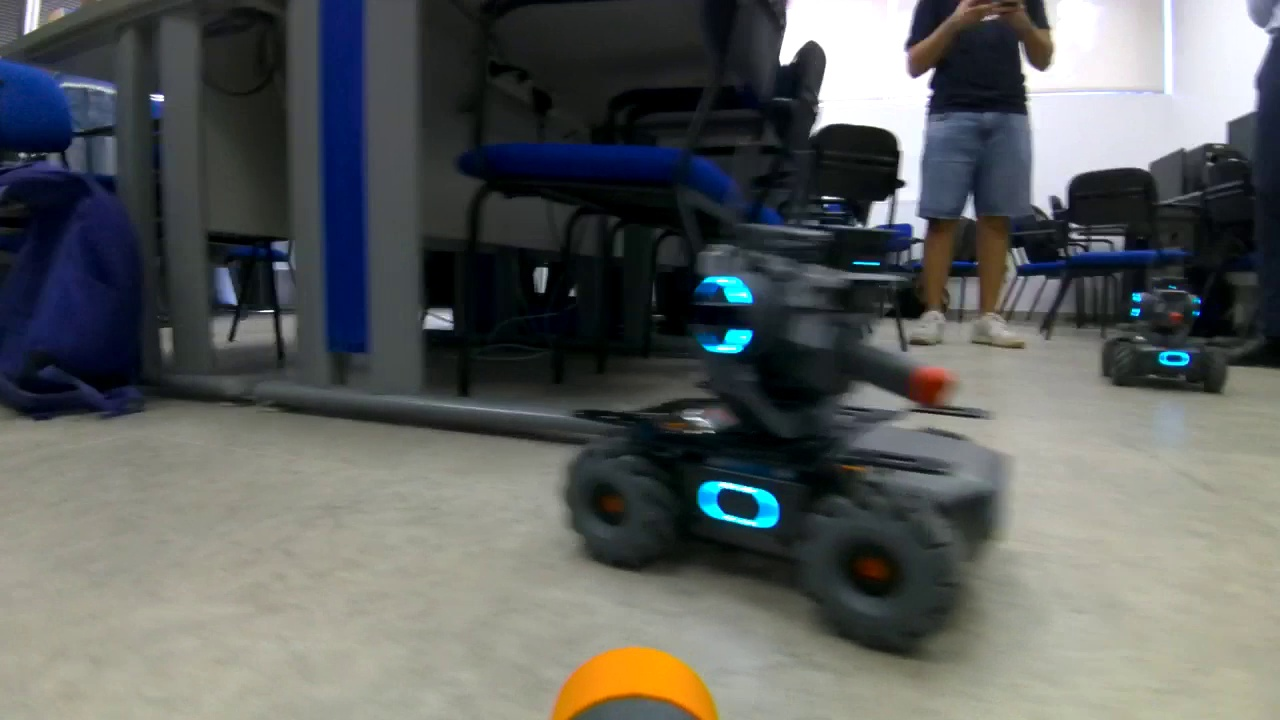robot: (553, 170, 1015, 660), (1102, 274, 1232, 397)
